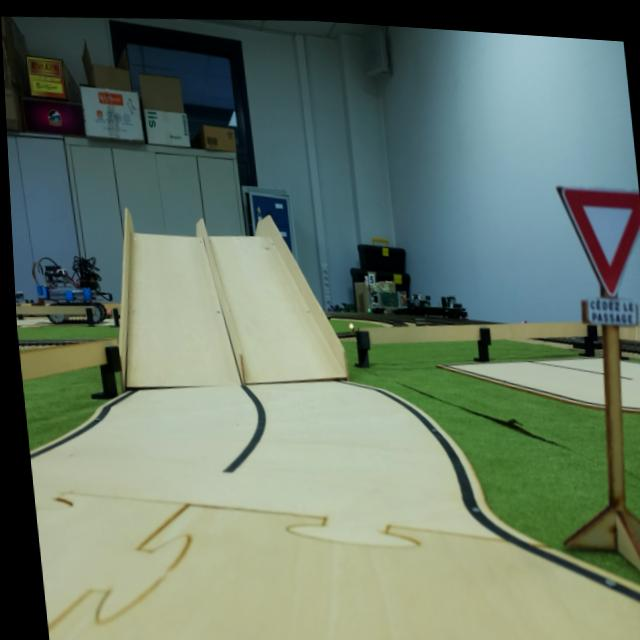panneau_ceder_passage: (547, 168, 640, 344)
pont: (100, 183, 356, 403)
